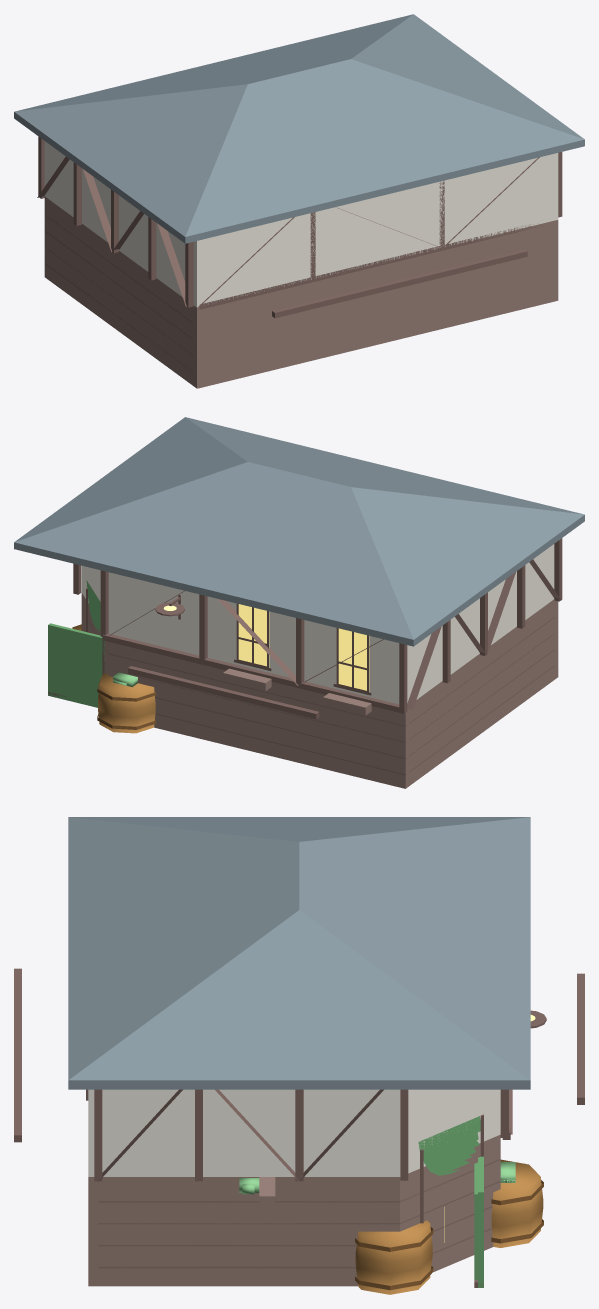
Rendered from Building_1_8.glb.
3 renders of one model, top to bottom at view 1: azimuth 30°, elevation 25°; view 2: azimuth 150°, elevation 25°; view 3: azimuth 270°, elevation 25°, orthographic. The views are drawn at different scales.
Visible parts, largest first — view 1: Roof, Walls.BackLow, Walls.BackUp, Walls.LeftLow, Walls.LeftUp, Beams.Cill.Left, Beams.Cill.Back, Beams.Diag.Left.-0.5_-1.0, Beams.Corner.BL, Beams.Diag.Left.0.5_0.0, Beams.V.Left.0.5, Beams.V.Left.-0.5; view 2: Roof, Walls.FrontLow, Walls.FrontUp, Walls.LeftLow, Walls.LeftUp, DoorBody, Barrel1, Beams.Cill.Front, Beams.Cill.Right, Windows.Front1.Glass, Windows.Front2.Glass, Box.Front1 (+14 smaller); view 3: Roof, Walls.RightLow, Walls.RightUp, Walls.ChamferLow, Walls.ChamferUp, Barrel2, Barrel1, Beams.Cill.Left, Walls.BackLow, Beams.Cill.Right, DoorArch.L3, Beams.V.Right.0.0 (+7 smaller).
Boxes of the visible parts, x1=… form: Roof: x1=14, y1=14, x2=584, y2=243; Walls.BackLow: x1=193, y1=220, x2=558, y2=388; Walls.BackUp: x1=193, y1=153, x2=558, y2=307; Walls.LeftLow: x1=44, y1=197, x2=193, y2=385; Walls.LeftUp: x1=44, y1=141, x2=185, y2=296; Beams.Cill.Left: x1=272, y1=249, x2=527, y2=318; Beams.Cill.Back: x1=199, y1=224, x2=542, y2=309; Beams.Diag.Left.-0.5_-1.0: x1=157, y1=223, x2=186, y2=306; Beams.Corner.BL: x1=185, y1=242, x2=193, y2=307; Beams.Diag.Left.0.5_0.0: x1=83, y1=169, x2=111, y2=251; Beams.V.Left.0.5: x1=73, y1=162, x2=81, y2=225; Beams.V.Left.-0.5: x1=148, y1=217, x2=156, y2=280; Roof: x1=14, y1=417, x2=584, y2=646; Walls.FrontLow: x1=109, y1=642, x2=409, y2=788; Walls.FrontUp: x1=109, y1=572, x2=409, y2=704; Walls.LeftLow: x1=399, y1=599, x2=554, y2=787; Walls.LeftUp: x1=399, y1=544, x2=554, y2=701; DoorBody: x1=48, y1=623, x2=104, y2=707; Barrel1: x1=98, y1=673, x2=155, y2=733; Beams.Cill.Front: x1=102, y1=633, x2=407, y2=713; Beams.Cill.Right: x1=128, y1=666, x2=319, y2=719; Windows.Front1.Glass: x1=338, y1=628, x2=369, y2=691; Windows.Front2.Glass: x1=238, y1=604, x2=269, y2=667; Box.Front1: x1=323, y1=693, x2=371, y2=715; Roof: x1=68, y1=817, x2=530, y2=1089; Walls.RightLow: x1=98, y1=1177, x2=399, y2=1286; Walls.RightUp: x1=102, y1=1089, x2=399, y2=1176; Walls.ChamferLow: x1=400, y1=1134, x2=500, y2=1272; Walls.ChamferUp: x1=400, y1=1089, x2=500, y2=1176; Barrel2: x1=355, y1=1220, x2=432, y2=1294; Barrel1: x1=491, y1=1159, x2=543, y2=1247; Beams.Cill.Left: x1=14, y1=968, x2=21, y2=1142; Walls.BackLow: x1=88, y1=1177, x2=98, y2=1286; Beams.Cill.Right: x1=577, y1=973, x2=584, y2=1104; DoorArch.L3: x1=418, y1=1116, x2=480, y2=1154; Beams.V.Right.0.0: x1=295, y1=1089, x2=303, y2=1181.
Size of the model in its own units: 3.17 by 1.6 by 2.84.
